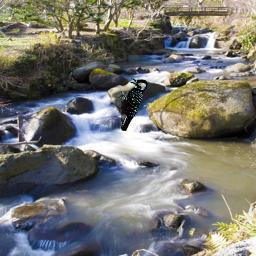Woodpecker: (117, 77, 149, 131)
